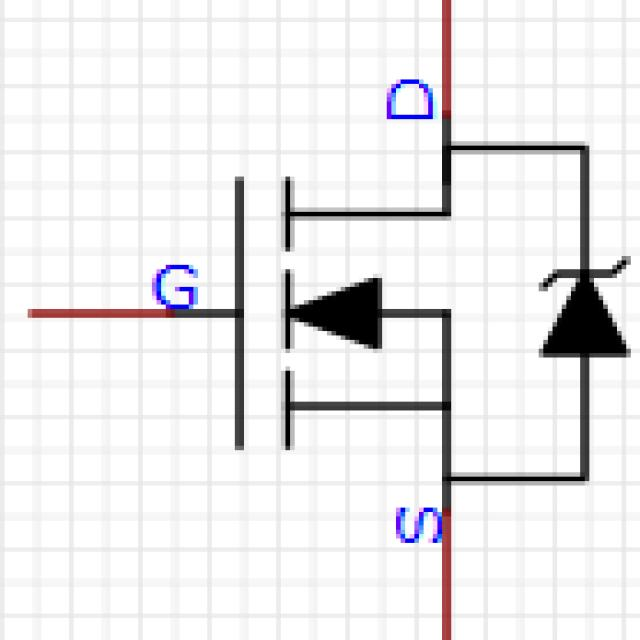nmos: (32, 18, 636, 625)
